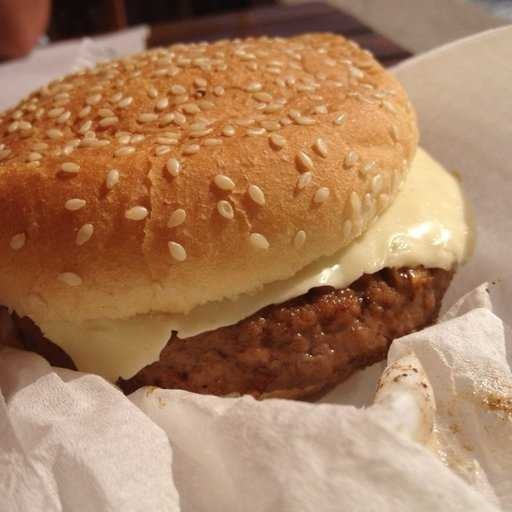hamburger: (1, 25, 451, 404)
